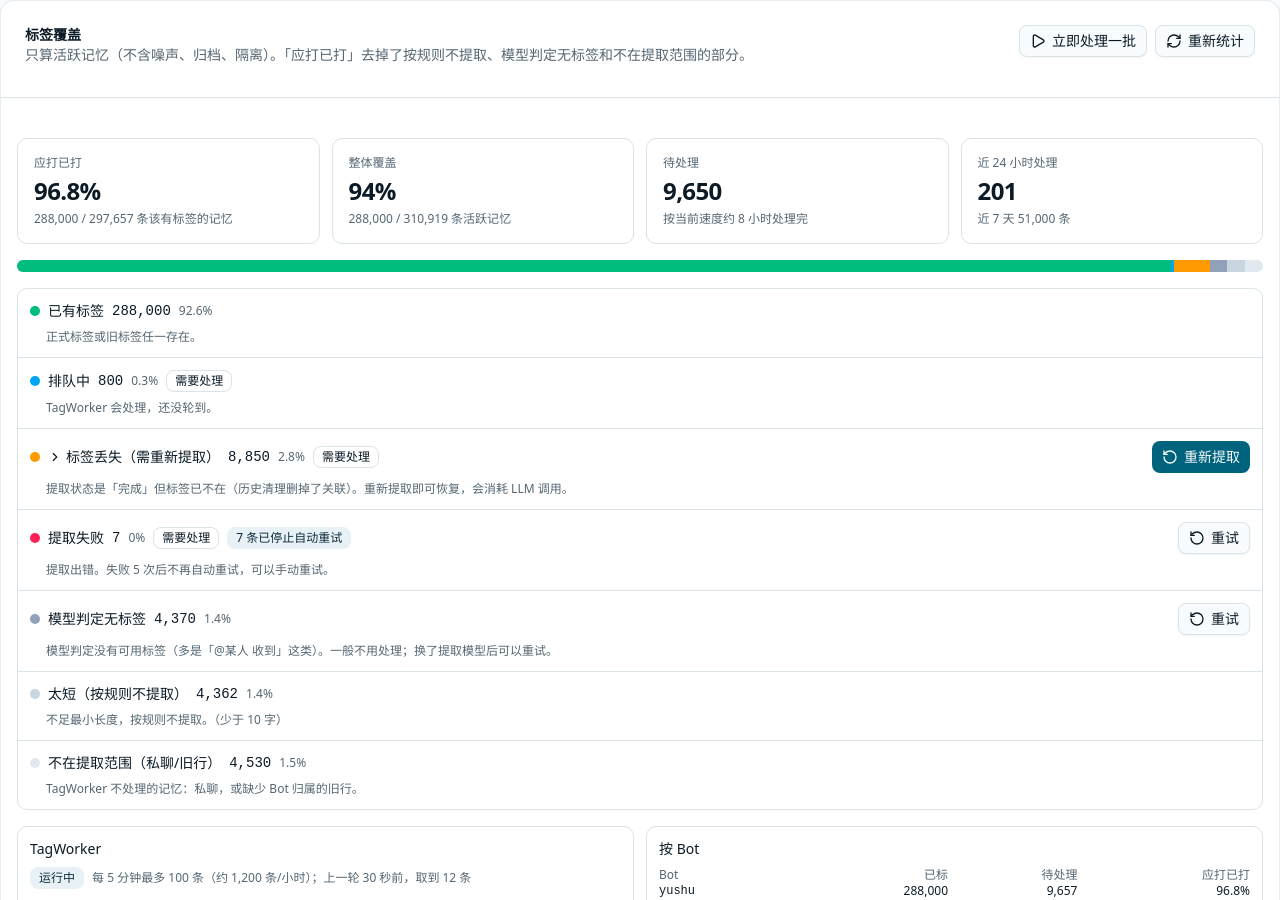
Test: TagCoveragePanel › 分开显示应打已打与整体覆盖，展开样例
Expected: the text "96.8%" is shown, [34, 174, 101, 207]
Expected: the text "94%" is shown, [348, 174, 396, 207]
Click the button "标签丢失（需重新提取）": (134, 457) [48, 447, 220, 467]
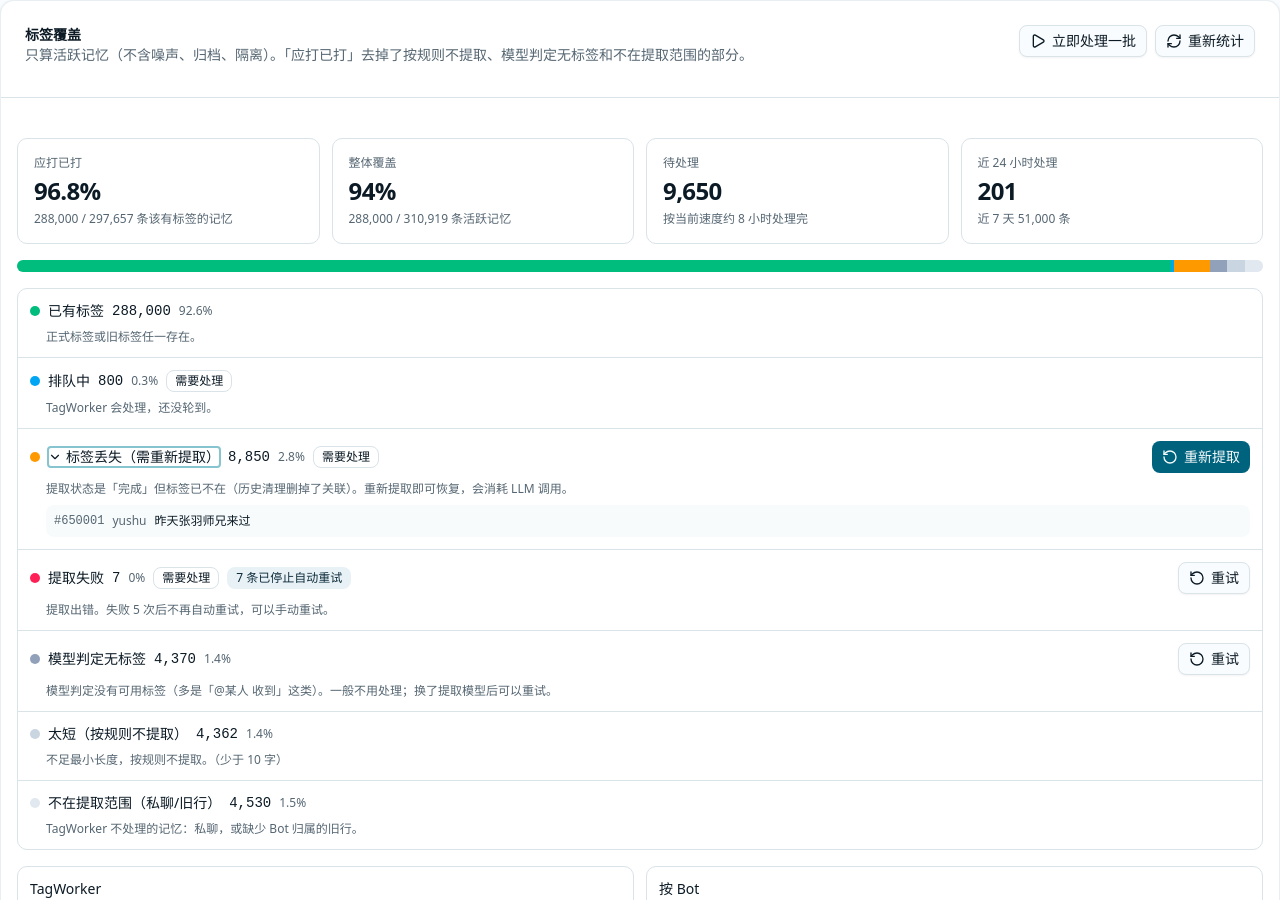
Result: the text "昨天张羽师兄来过" is shown at [154, 513, 250, 529]
